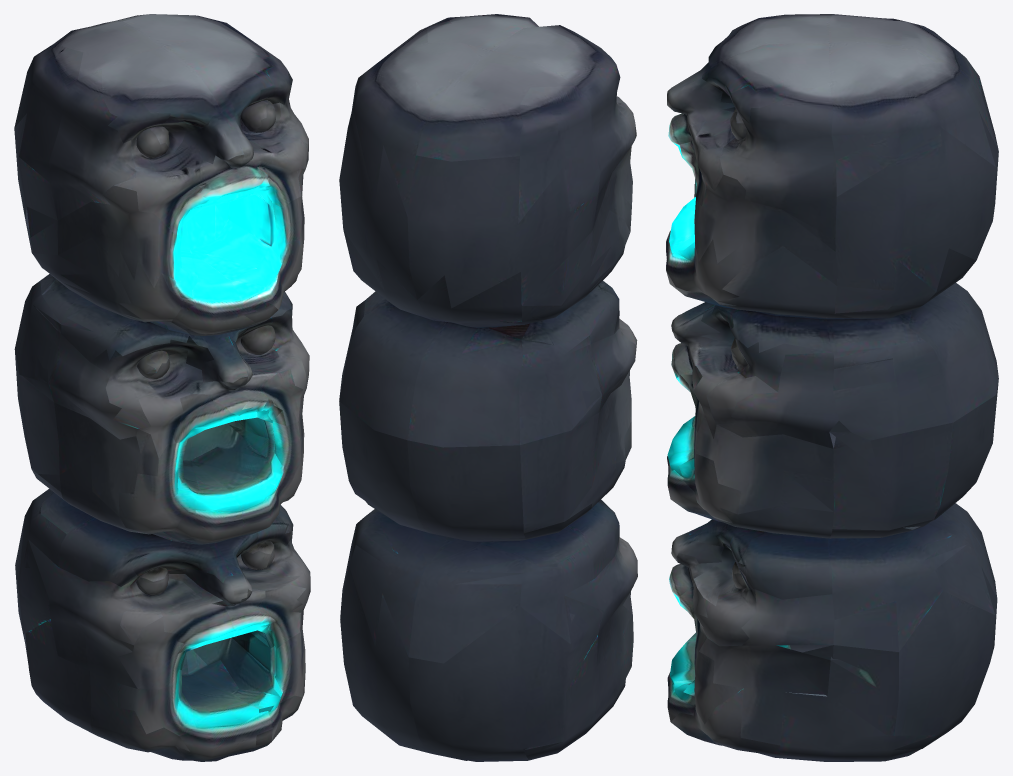
The model's file is echo_totem.glb.
The picture shows the model from 3 angles, left to right: view 1: azimuth 30°, elevation 25°; view 2: azimuth 150°, elevation 25°; view 3: azimuth 270°, elevation 25°; orthographic projection. The views are drawn at different scales.
Bounding box in the file's own units: 0.3564 × 1 × 0.4365.
Materials: 1 (1 with a texture image).
